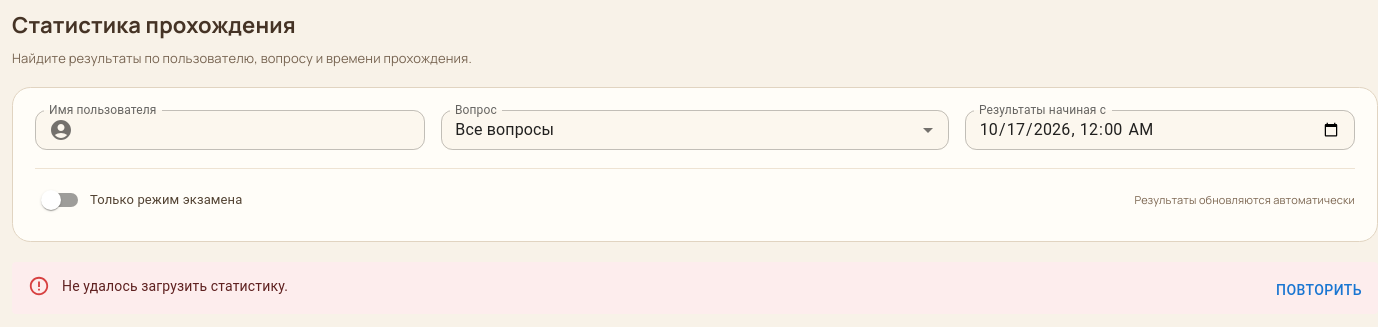
Scenario: empty data and a failed request have useful states and retry
Click the button "Повторить".
click(1319, 290)  # box [1268,272,1370,308]
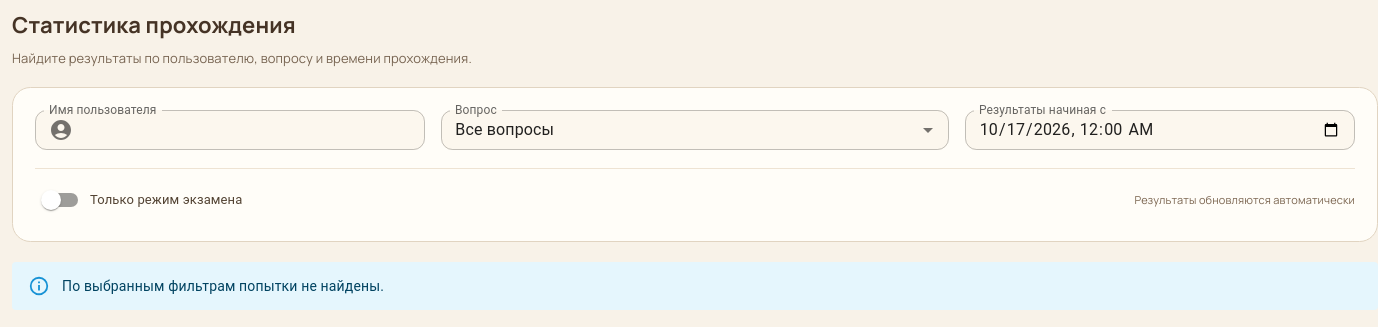
Expected: the text "По выбранным фильтрам попытки не найдены" is shown, [62,278,384,294]
